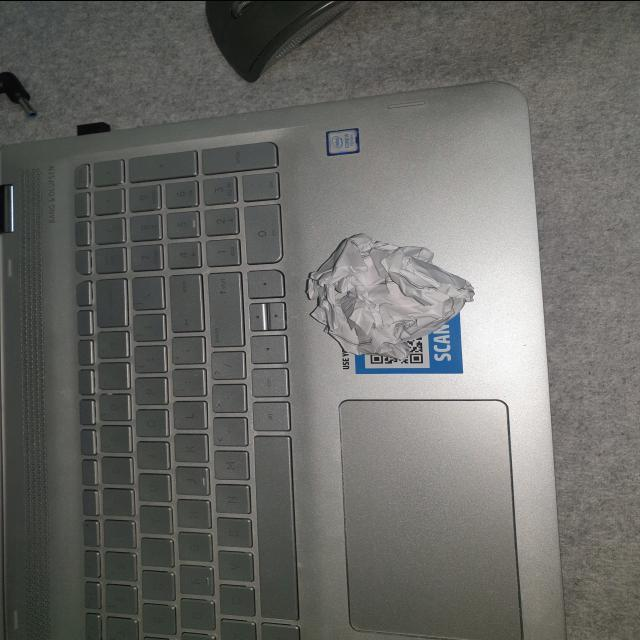Paper: (299, 218, 489, 368)
